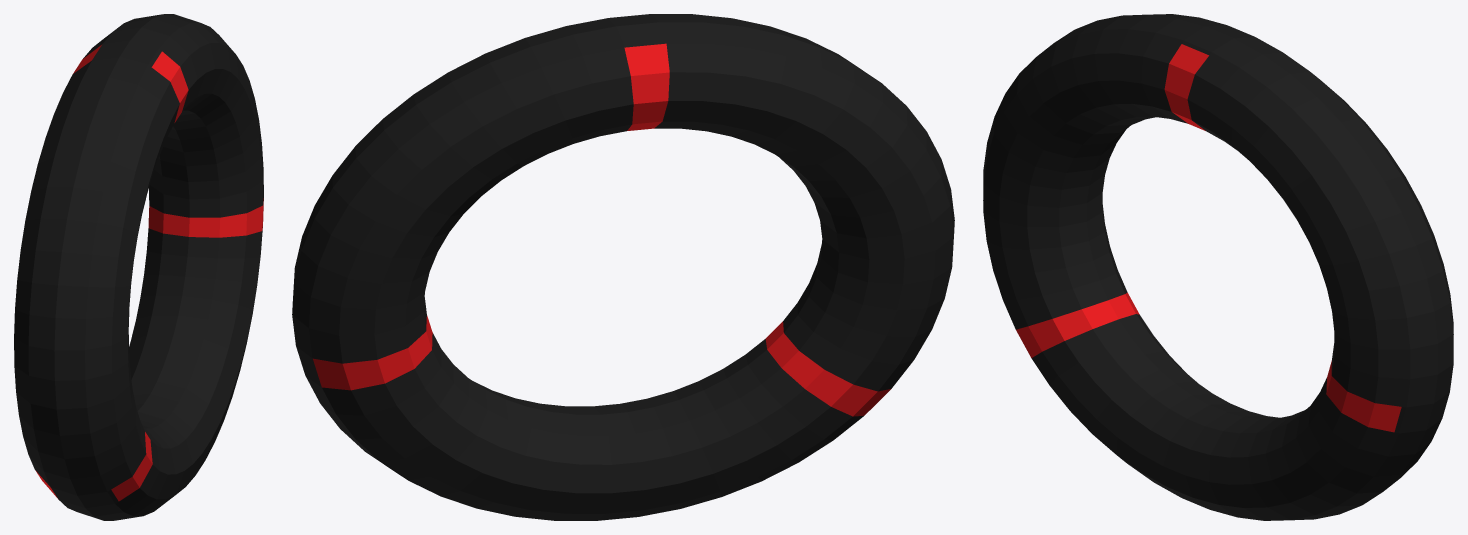
Rendered from wheel.fbx.
3 renders of one model, left to right at view 1: azimuth 30°, elevation 25°; view 2: azimuth 150°, elevation 25°; view 3: azimuth 270°, elevation 25°, orthographic. The views are drawn at different scales.
Parts seen in each view (by area): view 1: Torus.001; view 2: Torus.001; view 3: Torus.001.
Part boxes in pixels (bbox=[...]): Torus.001: bbox=[14, 14, 263, 520]; Torus.001: bbox=[292, 14, 954, 520]; Torus.001: bbox=[983, 14, 1453, 520].
Size of the model in its own units: 616 by 643 by 600.
